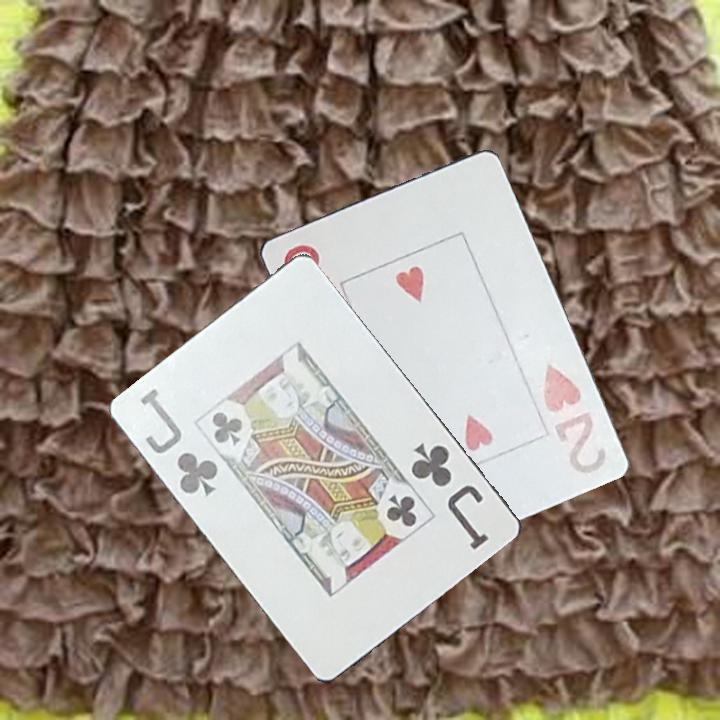2h: (531, 359, 608, 480)
Jc: (137, 384, 223, 500), (407, 439, 493, 554)
